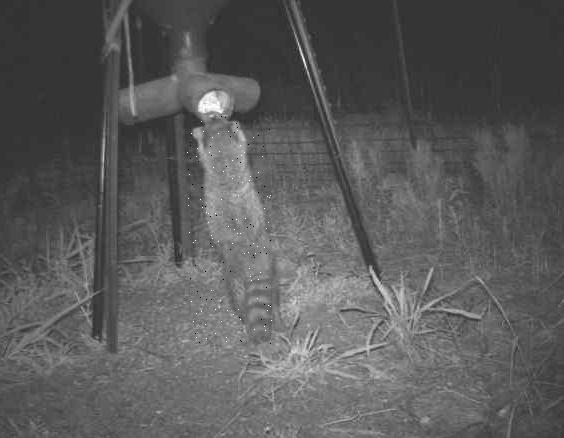Raccoon: (186, 112, 271, 344)
